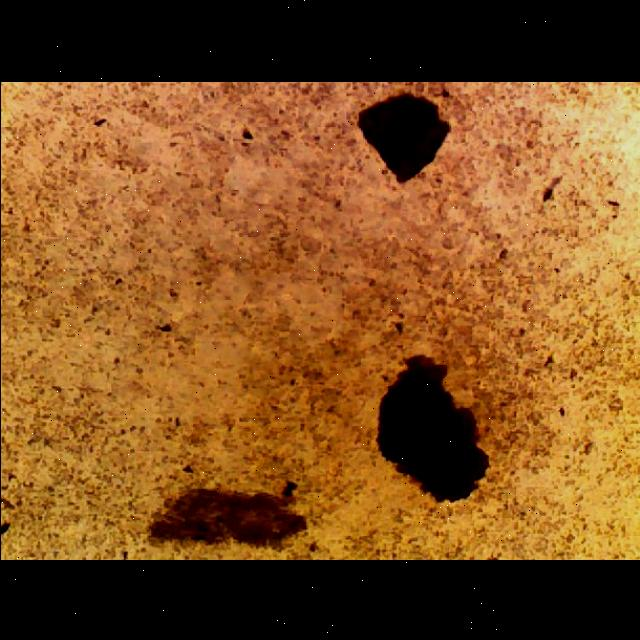Fragment: (369, 347, 513, 507), (134, 484, 312, 550), (352, 83, 454, 183)
